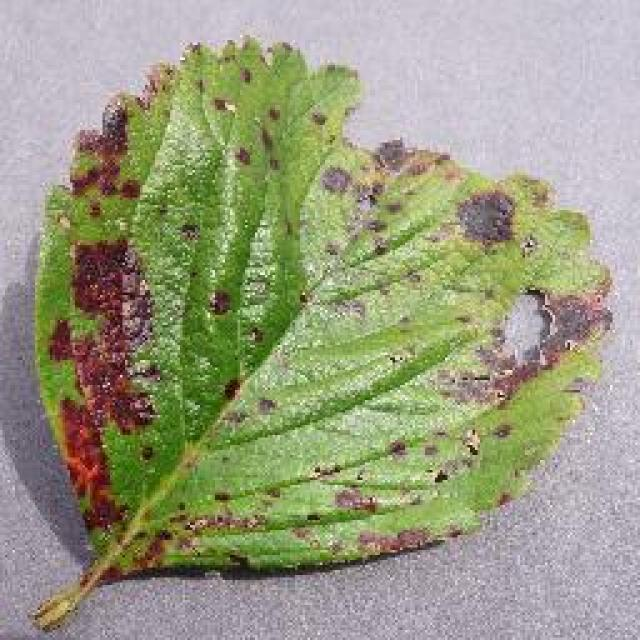Strawberry___Leaf_scorch: (53, 48, 609, 580)
